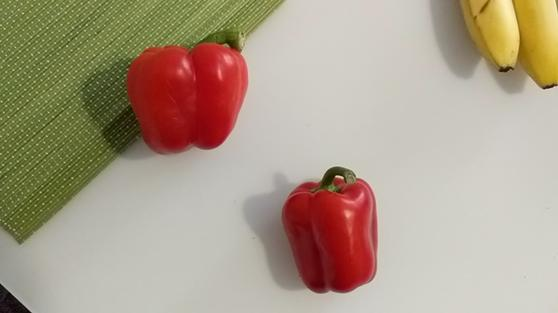pepper: (131, 28, 252, 155), (286, 165, 378, 299)
